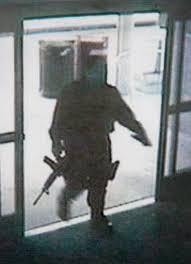gun: (30, 141, 82, 209)
